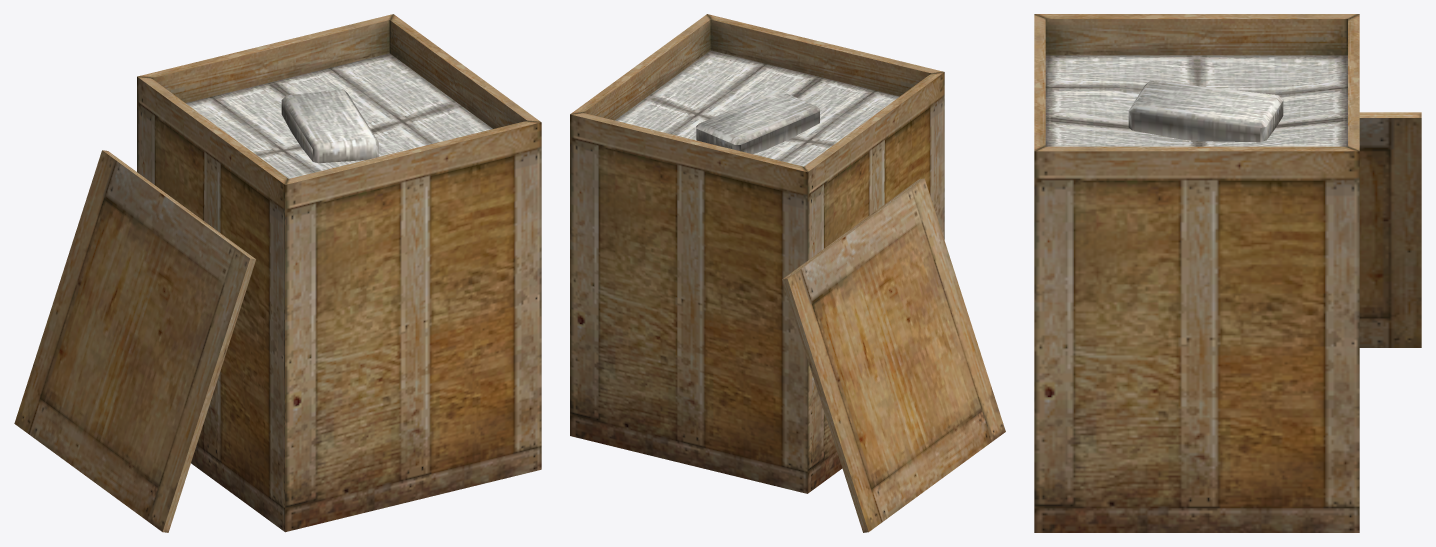
Rendered from COCR01.glb.
The picture shows the model from 3 angles, left to right: view 1: azimuth 30°, elevation 25°; view 2: azimuth 150°, elevation 25°; view 3: azimuth 270°, elevation 25°; orthographic projection. The views are drawn at different scales.
Parts seen in each view (by area): view 1: _COCR01; view 2: _COCR01; view 3: _COCR01.
Part boxes in pixels (x1,y1,x2,y2): _COCR01: [14, 14, 541, 532]; _COCR01: [570, 14, 1005, 532]; _COCR01: [1034, 14, 1421, 532].
Bounding box in the file's own units: 0.8688 × 0.8217 × 0.7563.
Materials: 1 (1 with a texture image).
